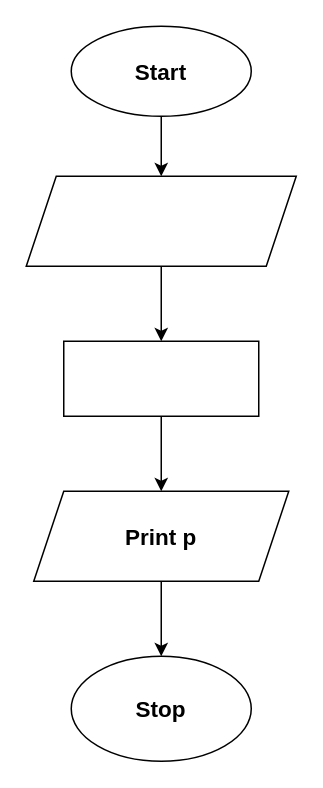
Some shapes in this 323 by 788 pixel diagram are drawn without their labels. Each missing label, with the centre of its shape:
p=pow(b,3): the point at 160,378
Read the value of b: the point at 160,220
